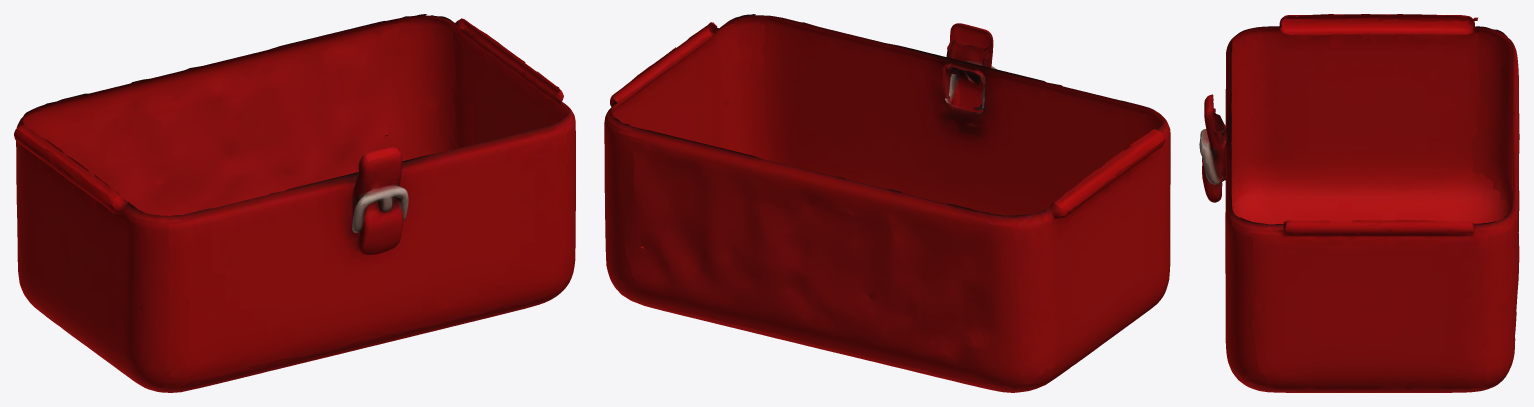
Rendered from body.glb.
3 renders of one model, left to right at view 1: azimuth 30°, elevation 25°; view 2: azimuth 150°, elevation 25°; view 3: azimuth 270°, elevation 25°, orthographic. The views are drawn at different scales.
Parts seen in each view (by area): view 1: geometry_0; view 2: geometry_0; view 3: geometry_0.
Part boxes in pixels (x1=…): geometry_0: x1=14, y1=14, x2=575, y2=392; geometry_0: x1=604, y1=14, x2=1170, y2=392; geometry_0: x1=1199, y1=14, x2=1519, y2=392.
Size of the model in its own units: 0.26 by 0.1202 by 0.1674.
1 material, 1 textured.
